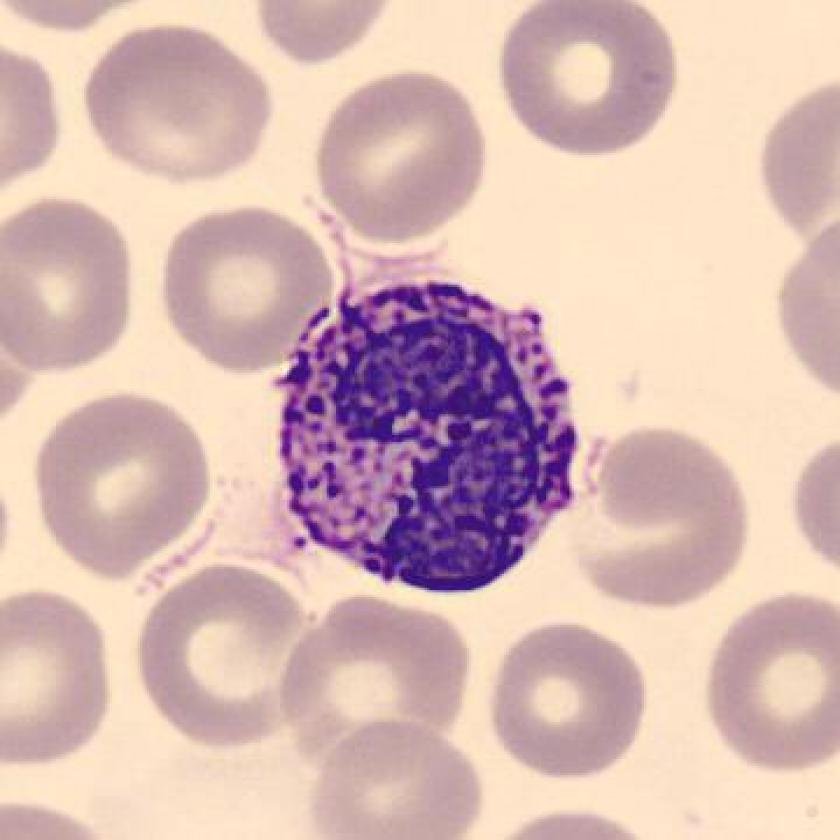basophil: (270, 274, 578, 596)
